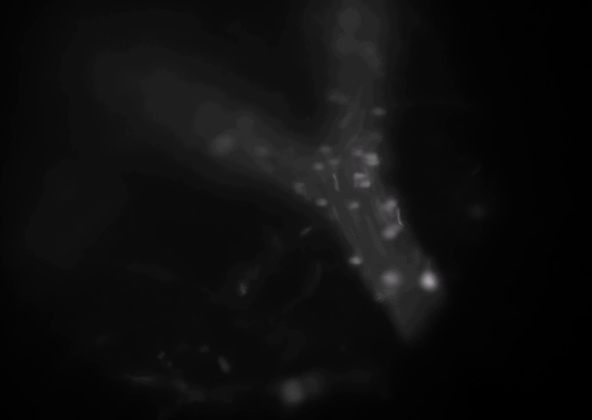cell: (422, 274, 436, 288), (372, 105, 386, 119), (350, 146, 364, 160), (364, 155, 378, 169), (319, 143, 333, 157), (312, 158, 326, 172), (327, 156, 341, 170), (325, 89, 339, 103), (350, 169, 364, 183), (335, 92, 349, 106), (359, 178, 373, 192), (348, 252, 362, 266), (382, 271, 396, 285), (381, 229, 395, 243), (387, 197, 401, 211), (386, 220, 400, 234), (376, 201, 390, 215), (316, 195, 330, 209), (292, 181, 306, 195), (255, 143, 269, 157), (219, 134, 233, 148), (360, 44, 374, 58), (367, 53, 381, 67), (331, 40, 345, 54), (372, 131, 386, 145), (367, 152, 381, 166), (348, 198, 362, 212)
